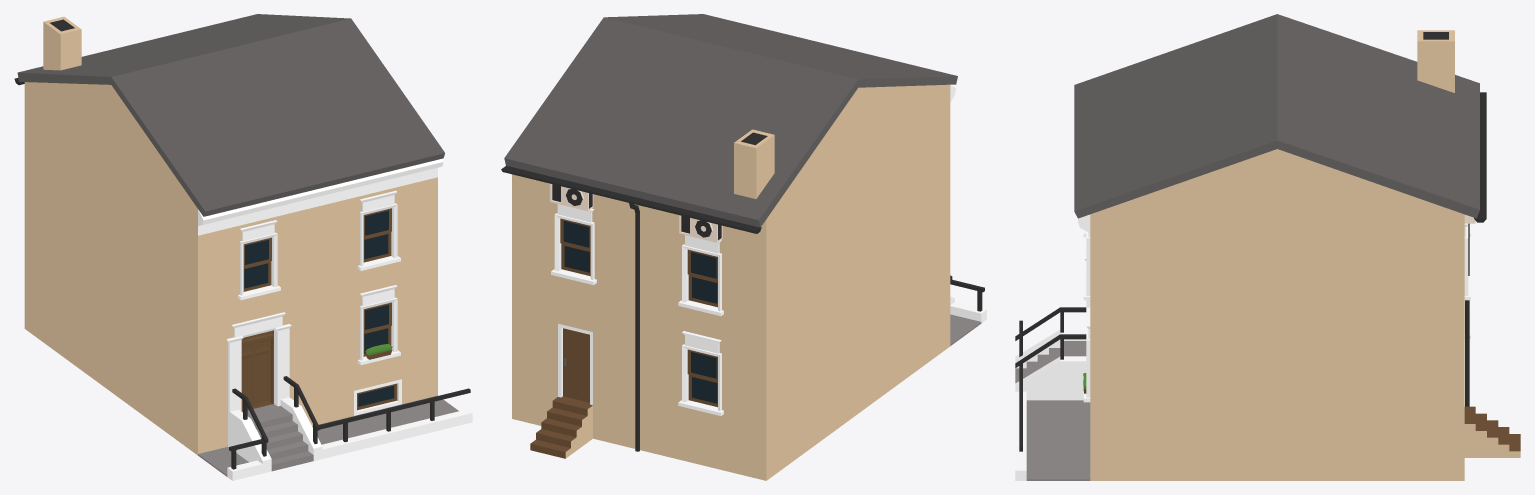
Rendered from building-house-block-big.glb.
3 renders of one model, left to right at view 1: azimuth 30°, elevation 25°; view 2: azimuth 150°, elevation 25°; view 3: azimuth 270°, elevation 25°, orthographic. The views are drawn at different scales.
Visible parts, largest first — view 1: building-house-block-big; view 2: building-house-block-big; view 3: building-house-block-big.
Boxes of the visible parts, x1,y1,x2,y2 form: building-house-block-big: [14, 14, 472, 480]; building-house-block-big: [501, 14, 986, 480]; building-house-block-big: [1015, 14, 1520, 480].
Size of the model in its own units: 8 by 10.04 by 13.5.
Materials: 1 (1 with a texture image).
